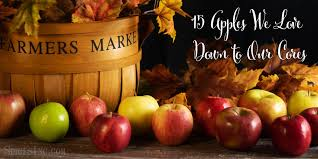apple: (214, 105, 261, 148), (240, 87, 288, 129), (190, 95, 234, 137), (153, 104, 195, 147), (91, 114, 134, 153), (28, 103, 70, 141), (269, 117, 312, 153), (72, 94, 107, 136), (119, 96, 158, 133), (3, 90, 27, 139)
